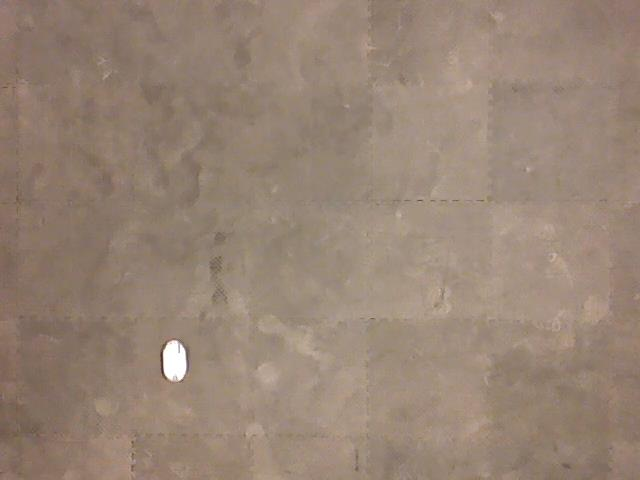Agent: (158, 337, 190, 385)
